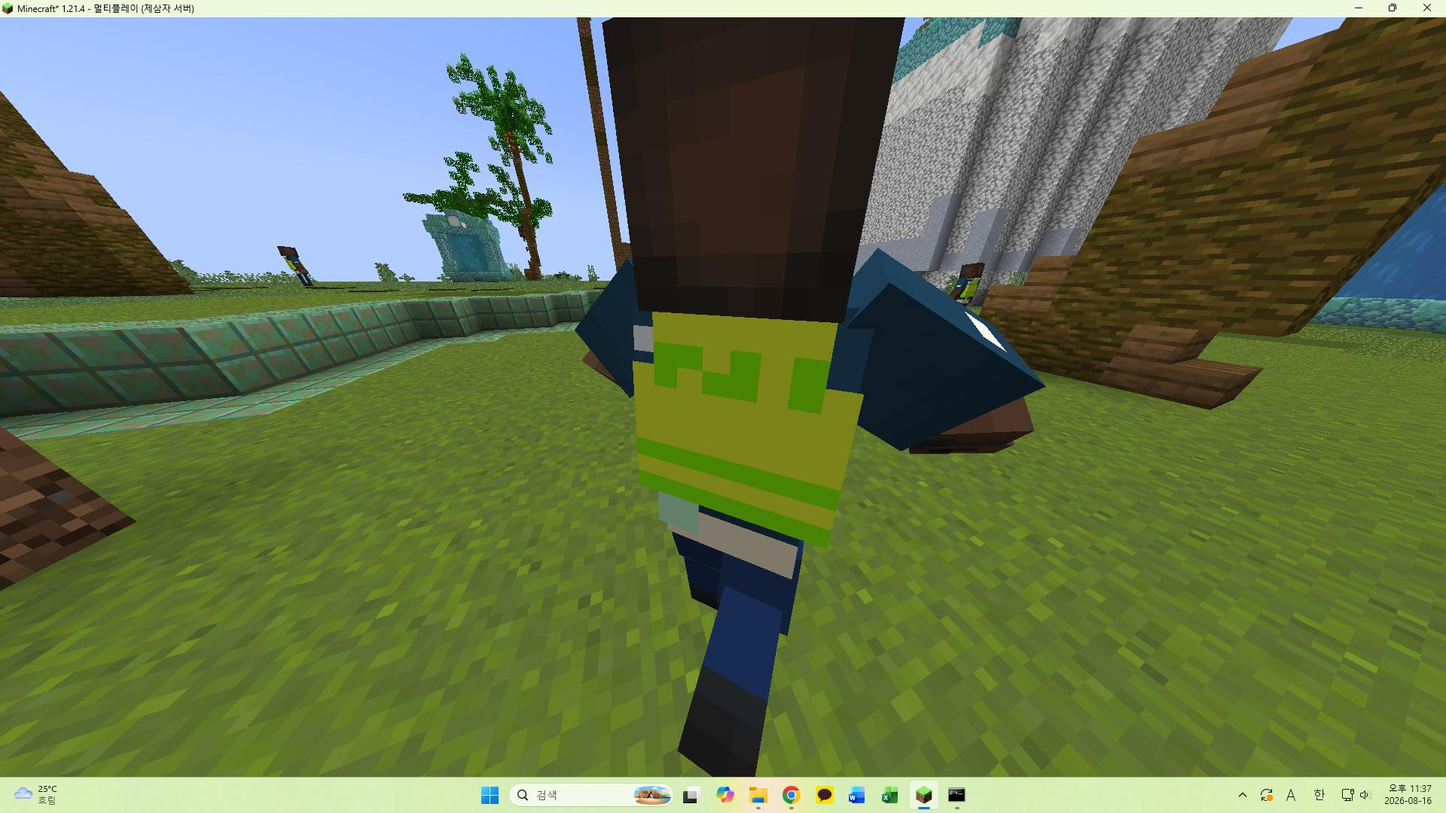Guardian: (577, 18, 1042, 775)
